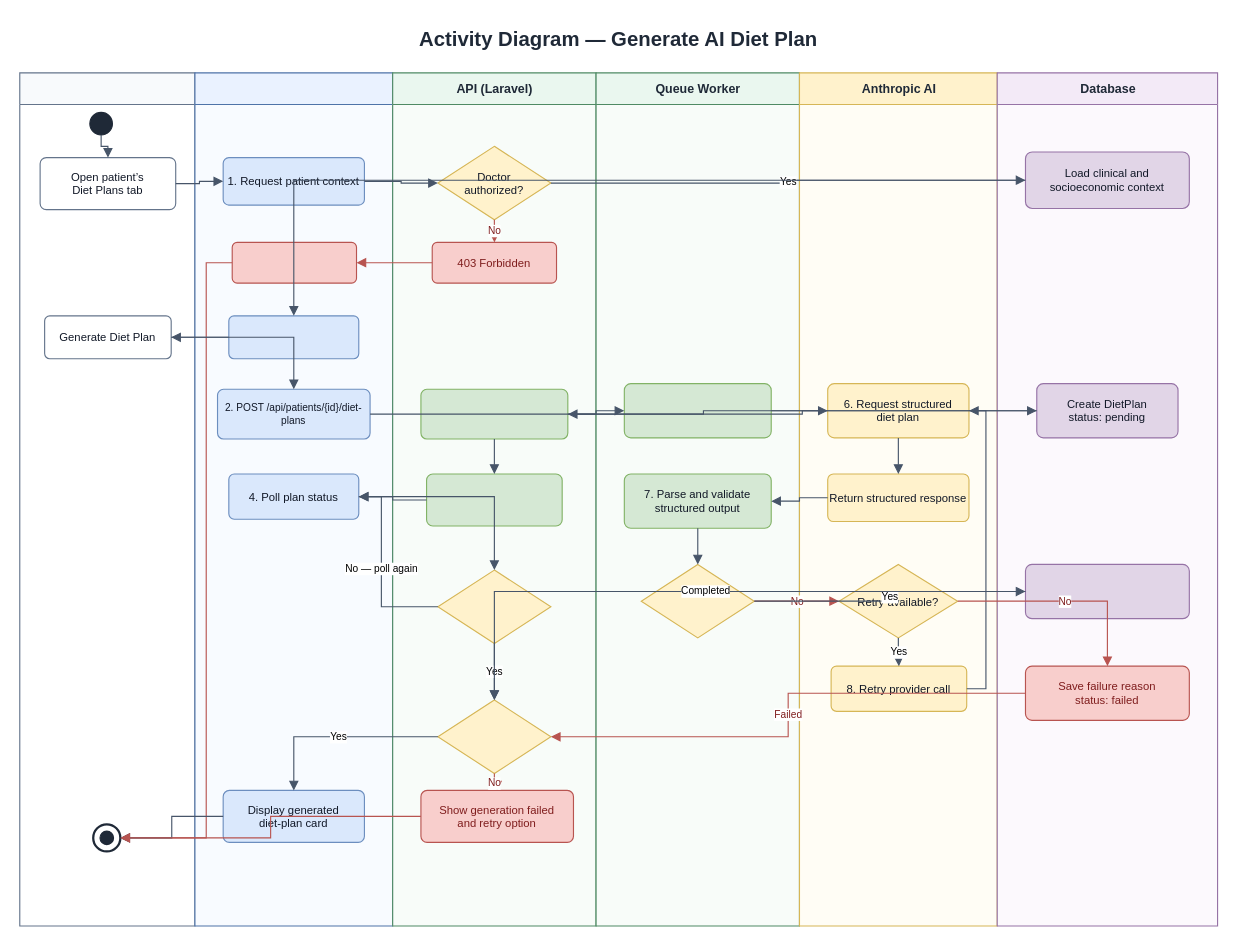
Image size: 1237x946. Some labels were removed from this diagram. The shapes that lost their labels are listed below. From the top down, each one's box as (x1, y1, x2, y2) in pixels, then its label:
(231, 241, 357, 283): Show access error
(228, 315, 359, 359): Show Generate action
(420, 388, 568, 439): 3. Queue GenerateDietPlanJob
(623, 383, 771, 438): 5. Build structured prompt from patient context
(19, 72, 195, 926): Doctor
(194, 72, 393, 926): Frontend
(425, 473, 562, 526): 202 Accepted status: pending
(437, 569, 551, 644): Job complete?
(640, 563, 754, 638): Output valid?
(1024, 563, 1189, 619): Save JSON content status: completed
(437, 699, 551, 773): Generation succeeded?
